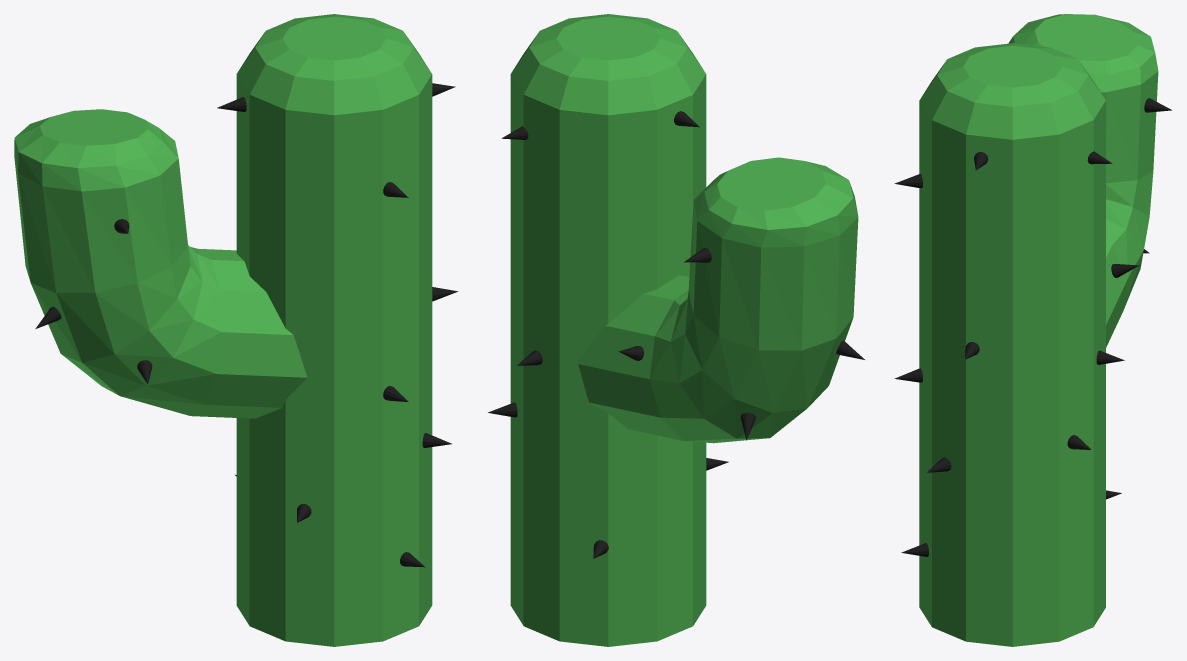
Rendered from model-triangulated.obj.
3 views of the same model, side by side, from view 1: azimuth 30°, elevation 25°; view 2: azimuth 150°, elevation 25°; view 3: azimuth 270°, elevation 25° (orthographic). The views are drawn at different scales.
Visible parts, largest first — view 1: group1119597062, group311521684; view 2: group1119597062, group311521684; view 3: group1119597062, group311521684.
Boxes of the visible parts, bbox=[...] form: group1119597062: bbox=[236, 14, 432, 646]; group311521684: bbox=[14, 109, 307, 418]; group1119597062: bbox=[510, 14, 706, 646]; group311521684: bbox=[578, 157, 858, 443]; group1119597062: bbox=[919, 43, 1105, 646]; group311521684: bbox=[1008, 14, 1158, 347].
Bounding box in the file's own units: 0.4495 × 0.64 × 0.2989.
